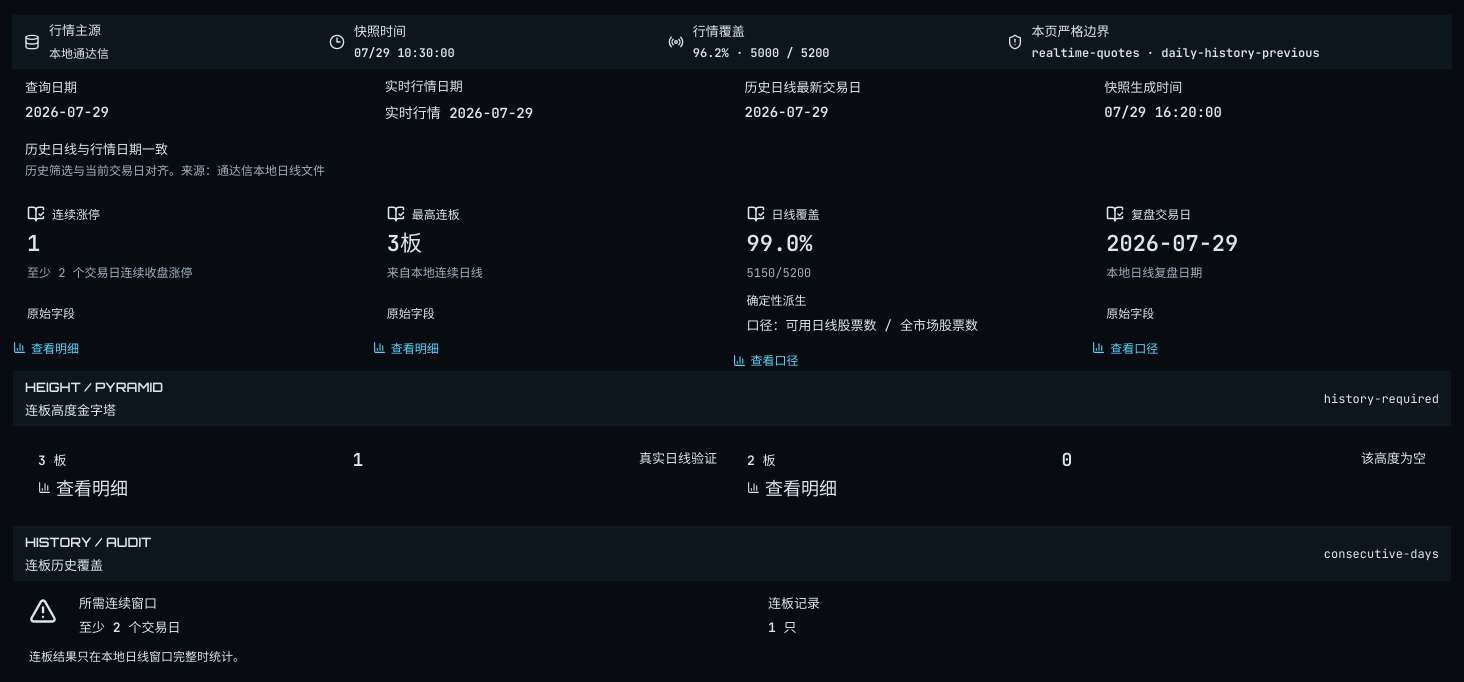
DistinctMarketWorkspace › drills a consecutive-board height into its exact named members
Click the button with aria-label "筛选：3 板 1" at (678, 459), box [38,448,717,500]
(page scrolled)
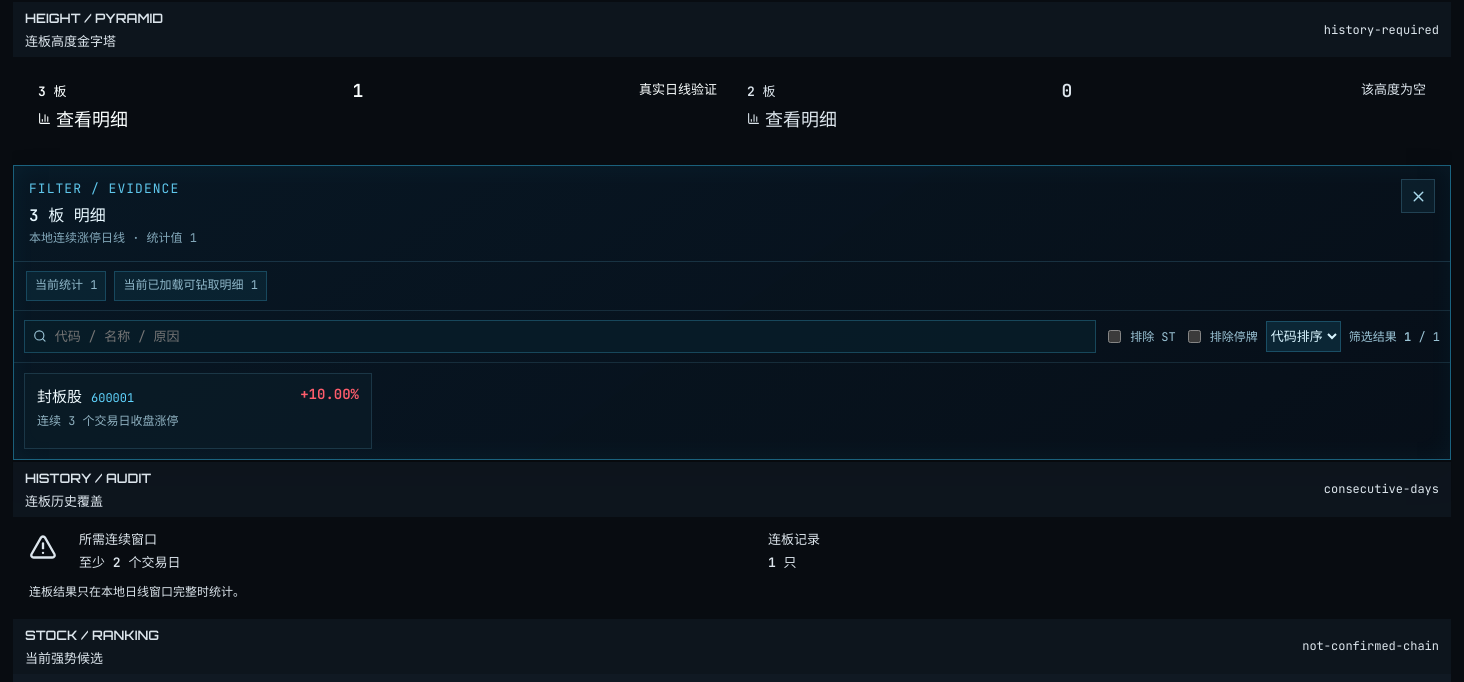
Result: the element "3 板 明细" shows "封板股" at [37,386,82,406]
Result: the element "3 板 明细" shows "600001" at [91,390,134,406]
Result: the element "3 板 明细" shows "连续 3 个交易日收盘涨停" at [37,412,179,428]
